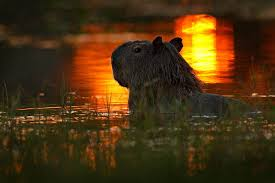capivara: (112, 36, 251, 120)
